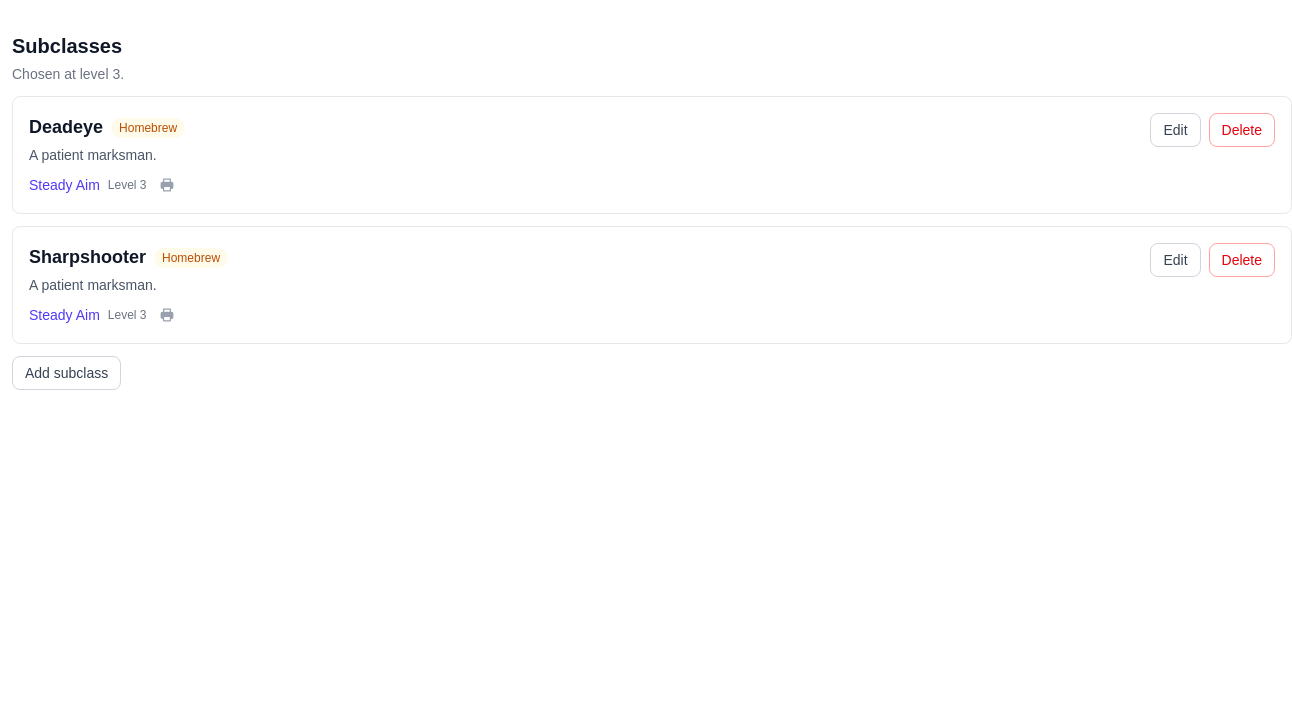
SubclassesSection › editing › withdraws the saved row until the refresh that carries its new values settles
Click the button "Edit" in the row of "Deadeye" at (1175, 130), box top-left (1150, 113), bottom-right (1200, 147)
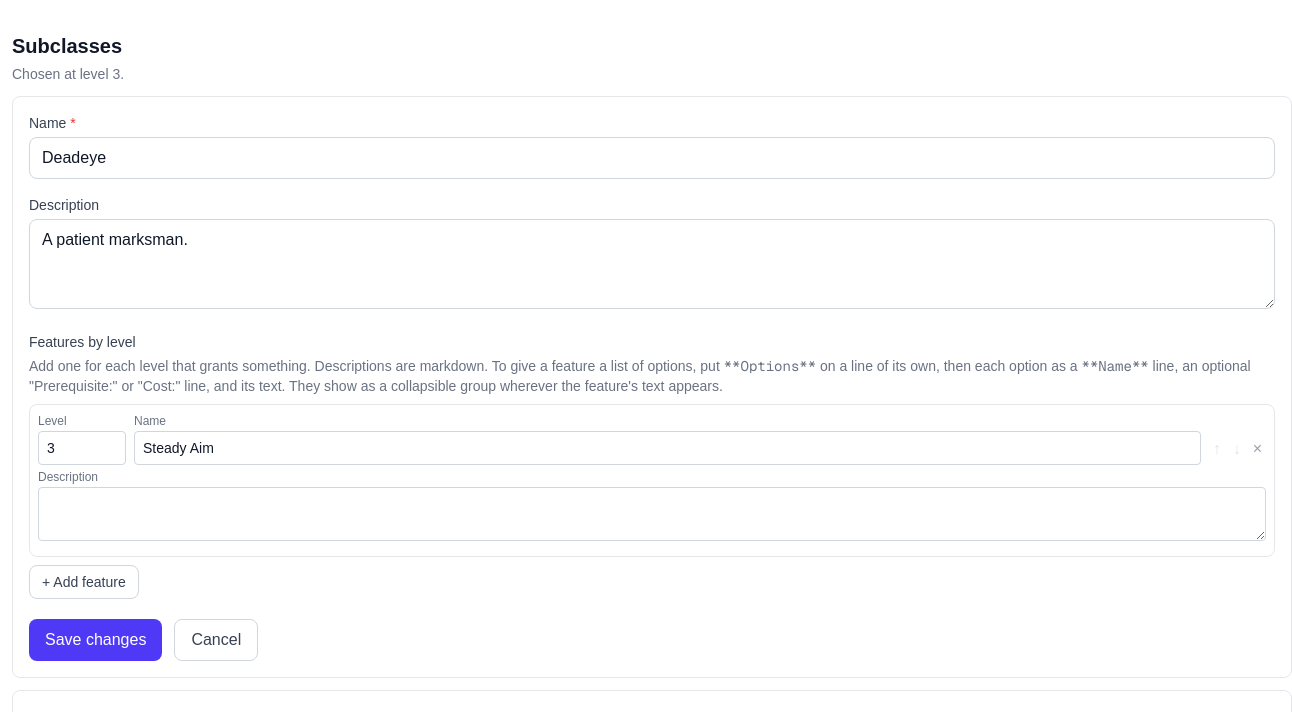
Replace the text in the 1st text box labelled "Description" with "Reworded." at (652, 264), box top-left (29, 219), bottom-right (1275, 309)
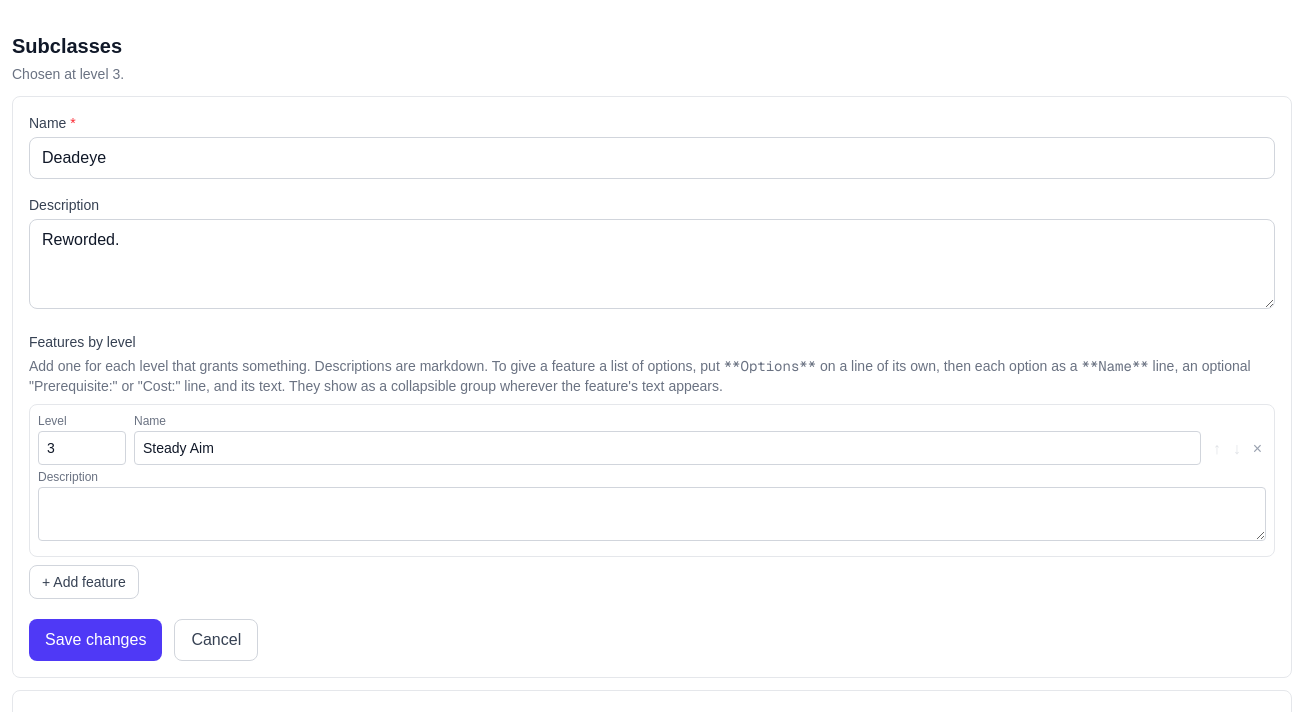
Click the button "Save changes" at (96, 640), box top-left (29, 619), bottom-right (162, 661)
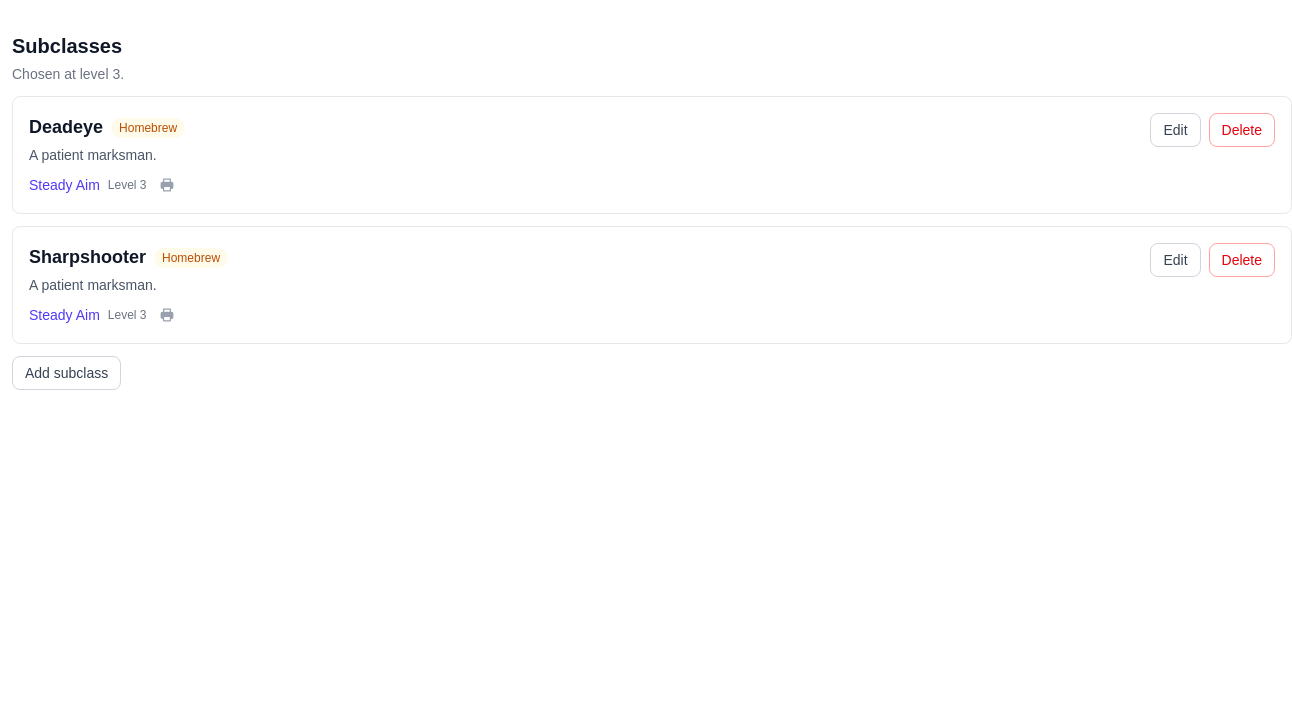
Now the button "Edit" in the row of "Sharpshooter" is shown, box top-left (1150, 243), bottom-right (1200, 277)
Now the button "Add subclass" is shown, box top-left (12, 356), bottom-right (121, 390)
